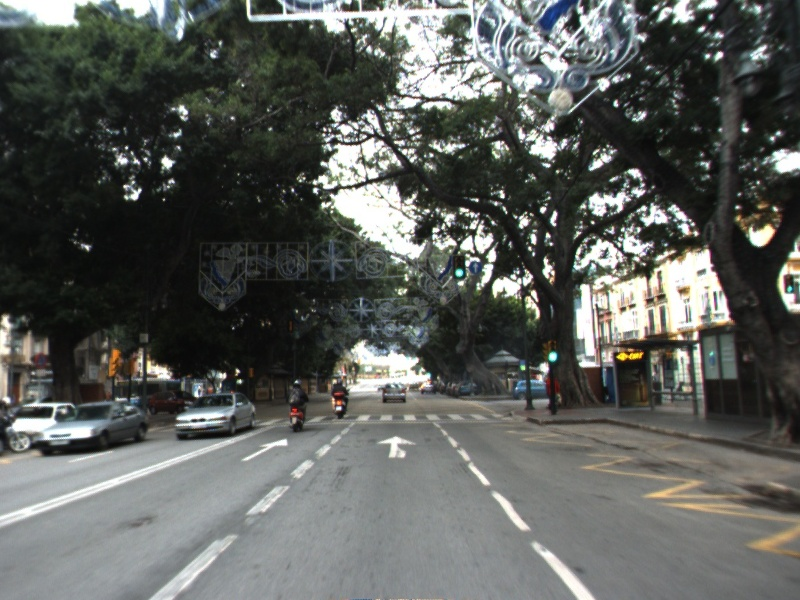STRAIGHT: (239, 436, 290, 463), (375, 434, 420, 460)
